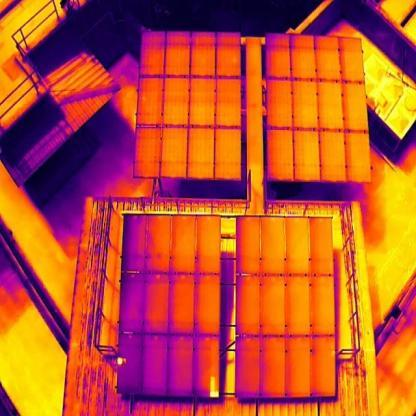anomaly: (209, 376, 220, 398), (117, 357, 127, 367)
